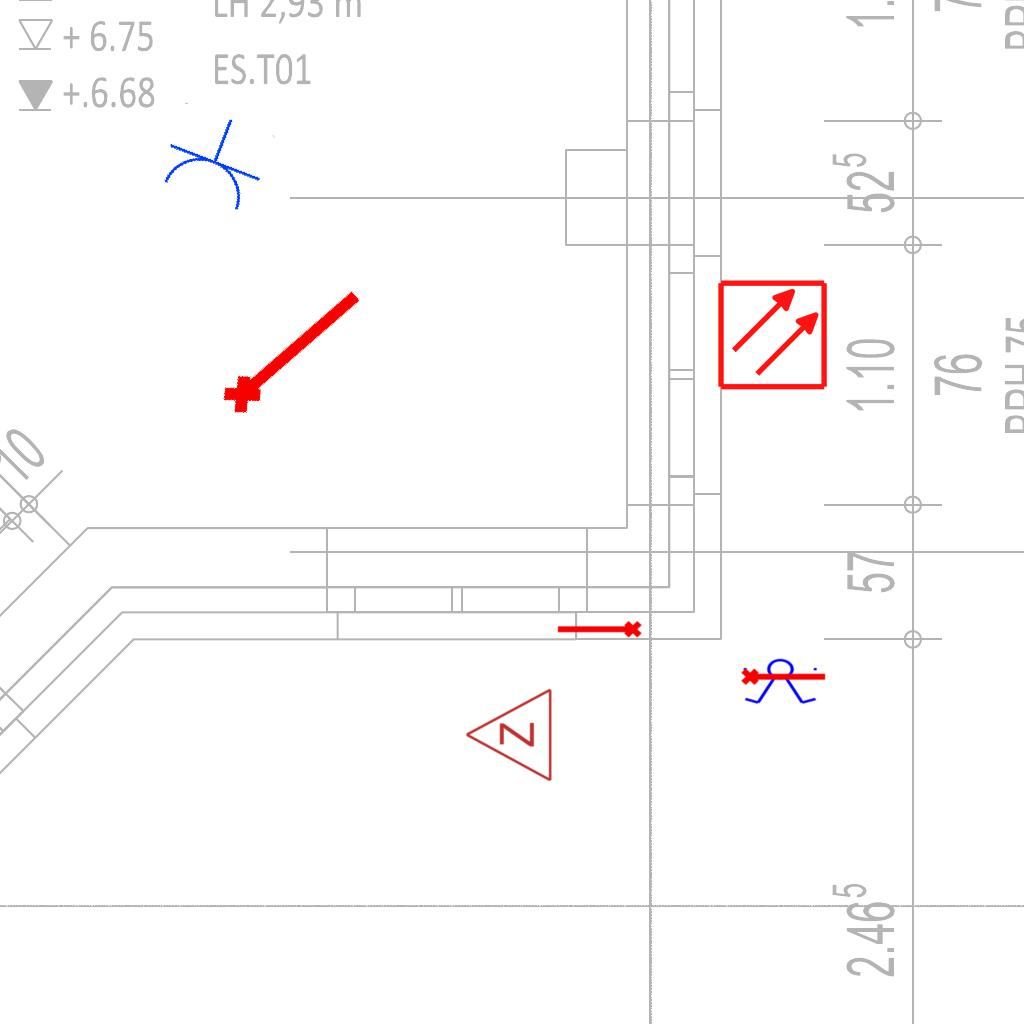ASR_Ansaugoeffnung: (210, 272, 374, 424), (555, 619, 643, 642), (740, 664, 828, 687)
RMO_Rauchmelder_optischer: (716, 278, 829, 391)
Schukosteckdose_einfach: (152, 100, 278, 219)
Serienschalter: (739, 658, 823, 706)
Zimmersignalleuchte: (459, 687, 559, 785)
